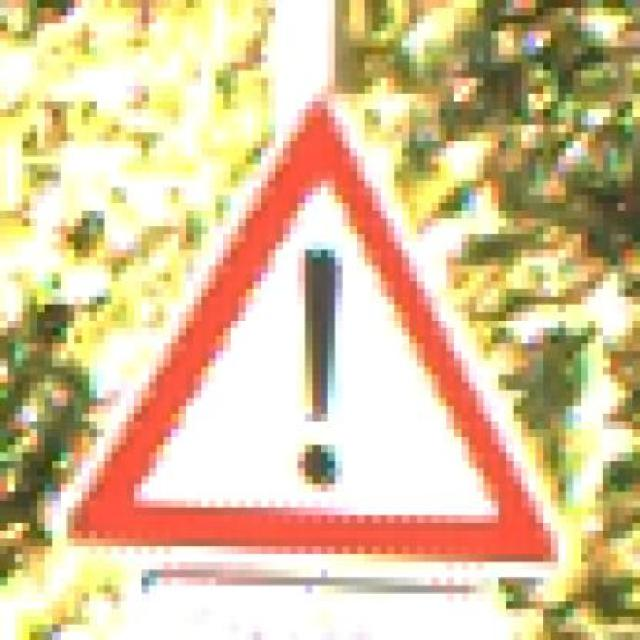Attention Please-: (52, 101, 573, 585)
